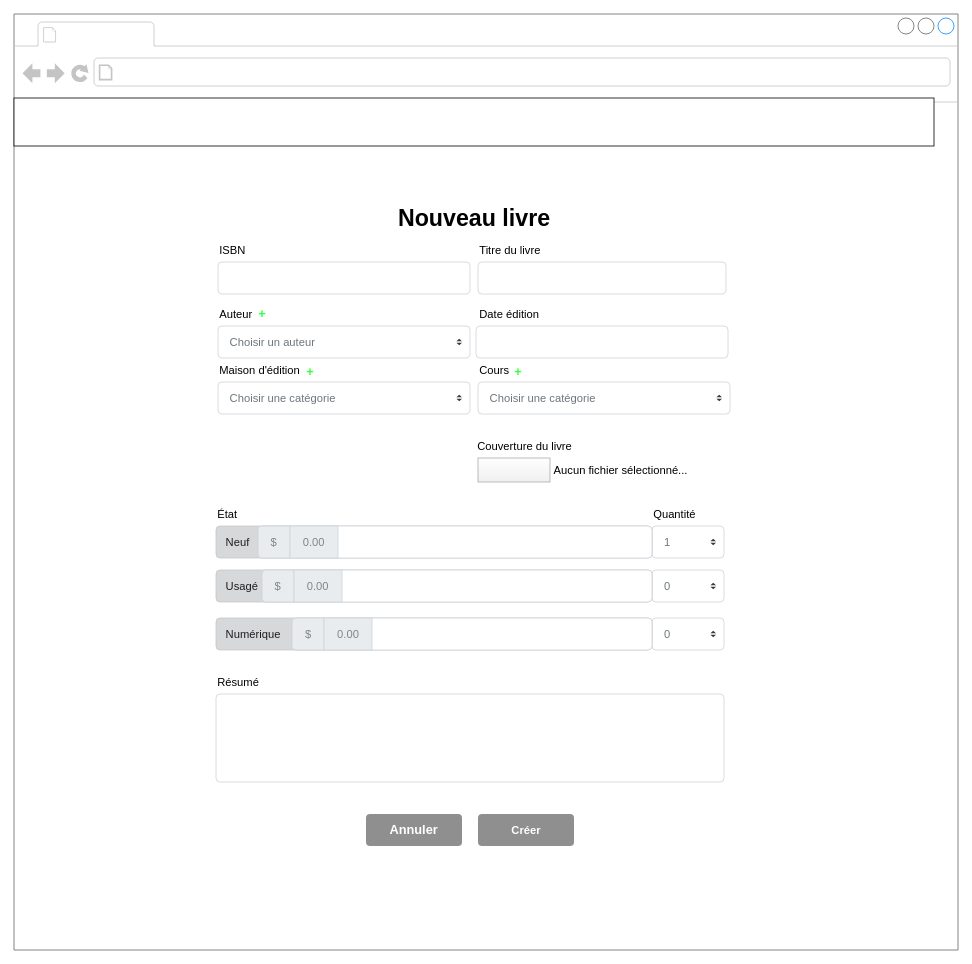
This 972x964 diagram has some shape labels left out. The shapes that lost their labels are listed below. From the top down, each one's centre as x and y in pixels, then its label:
At [105,33]: "Page 1".
At [217,72]: "https://www.AjouterLivre".
At [473,121]: "Barre de navigation".
At [513,469]: "Choisir image".
